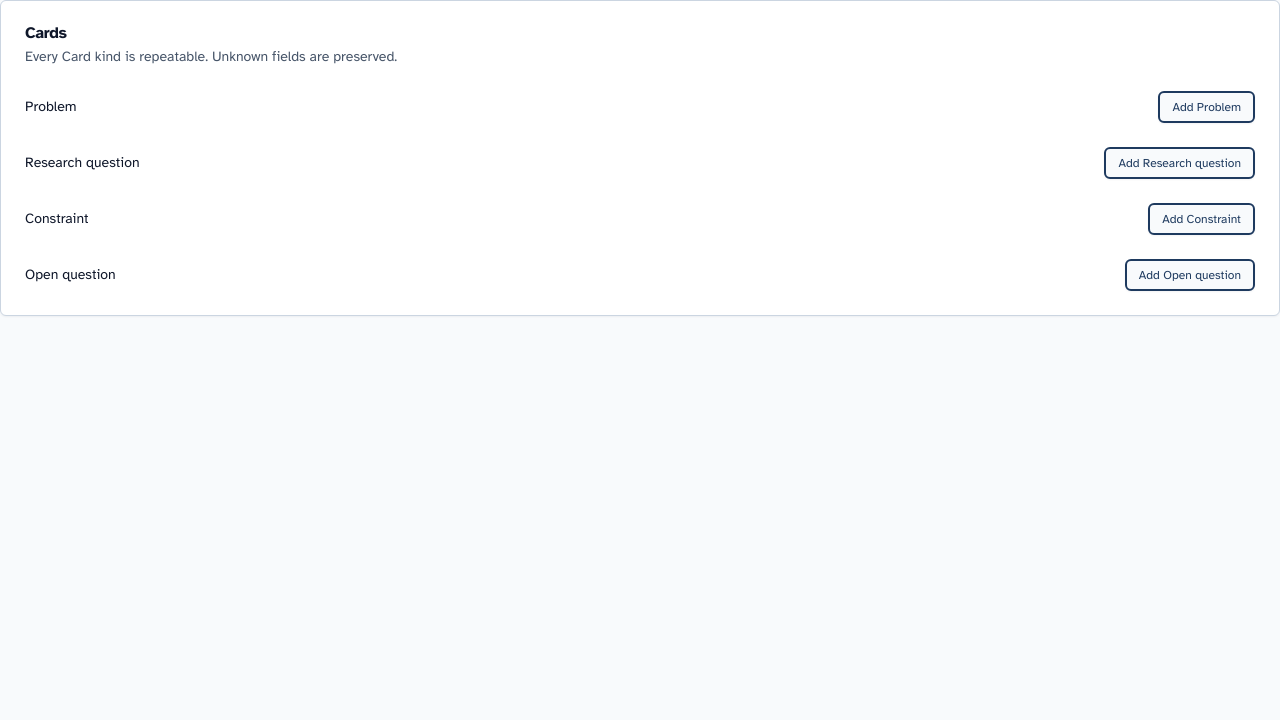
Test: WorkingDraftCardCanvas › retries a new Card after explicit conflict approval
Click the button "Add Problem": (1207, 107) [1158, 91, 1255, 123]
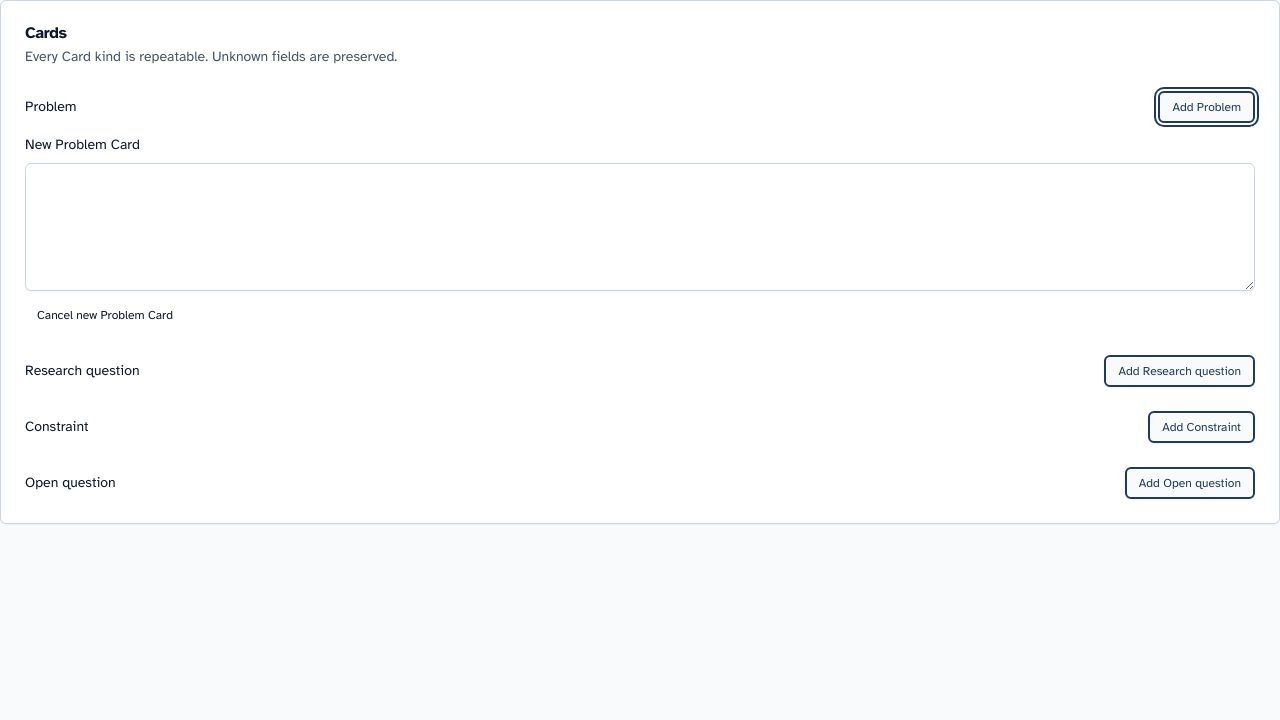
In the text box labelled "New Problem Card": (640, 227) [25, 163, 1255, 291], type "My problem"
(page scrolled)
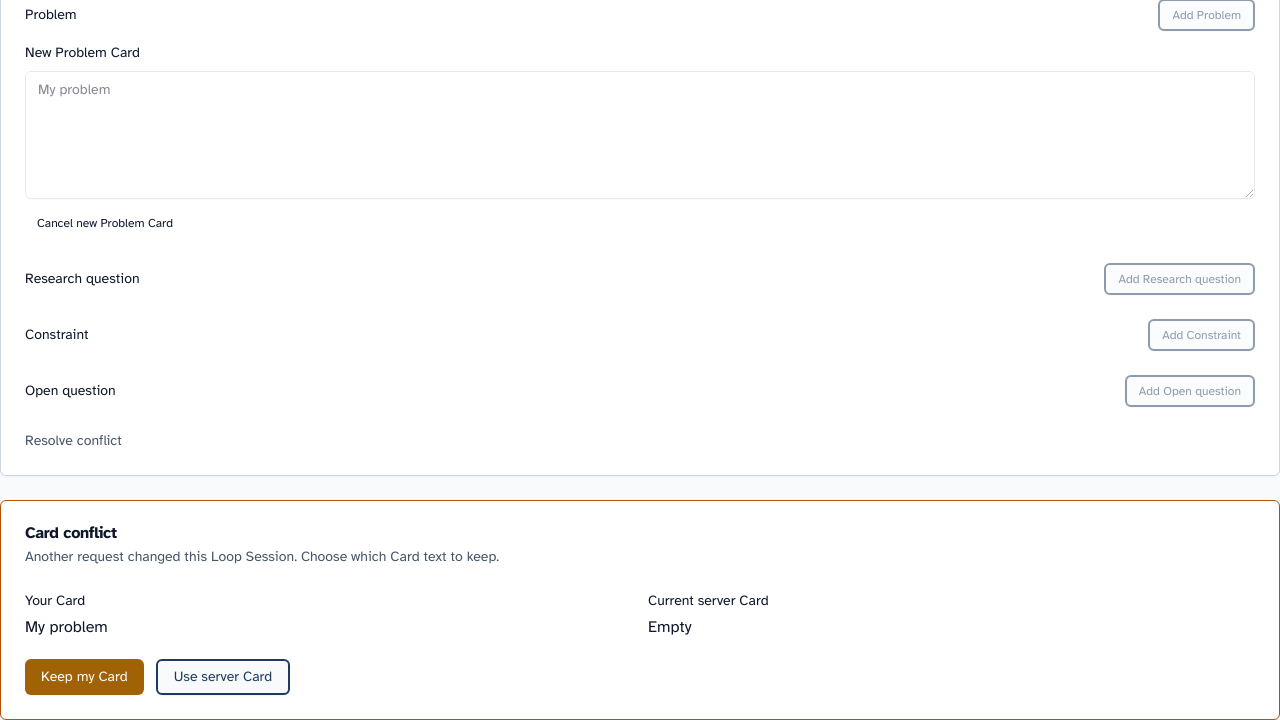
Result: the text "My problem" is shown at [25, 617, 108, 637]
Click the button "Keep my Card": (84, 677) [25, 659, 144, 695]
(page scrolled)
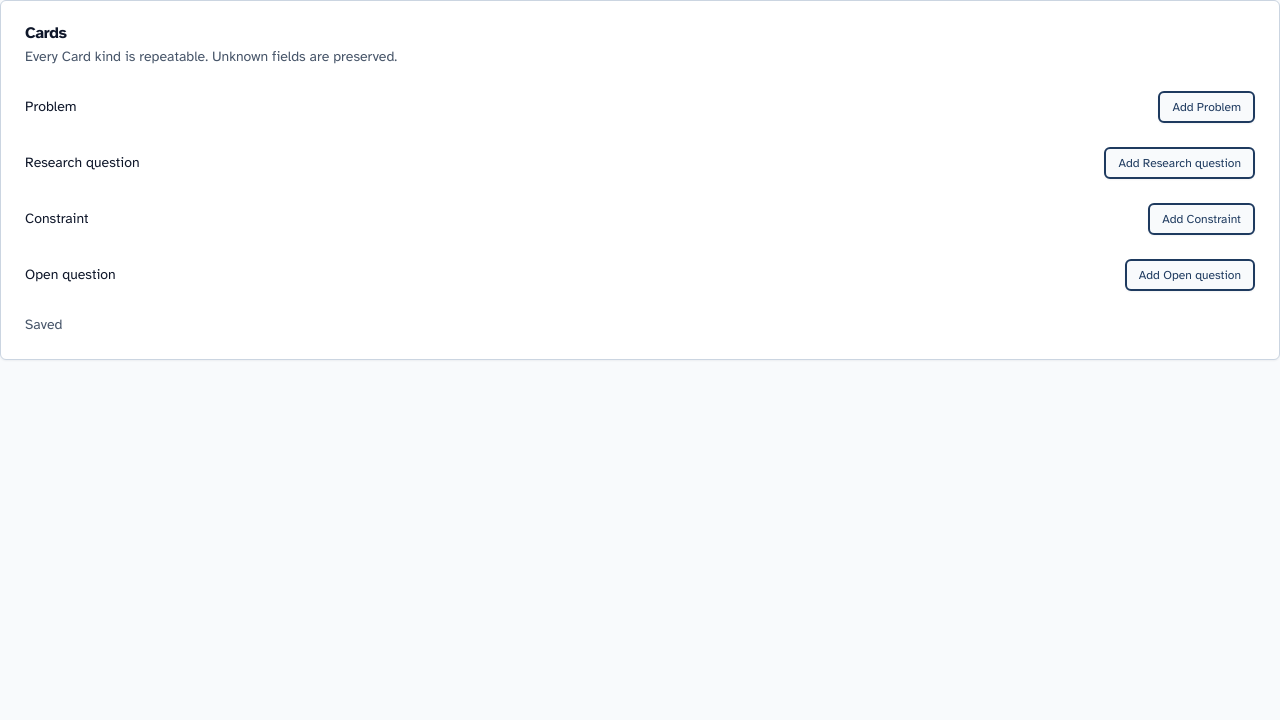
Result: the text "Saved" is shown at [25, 316, 62, 333]
